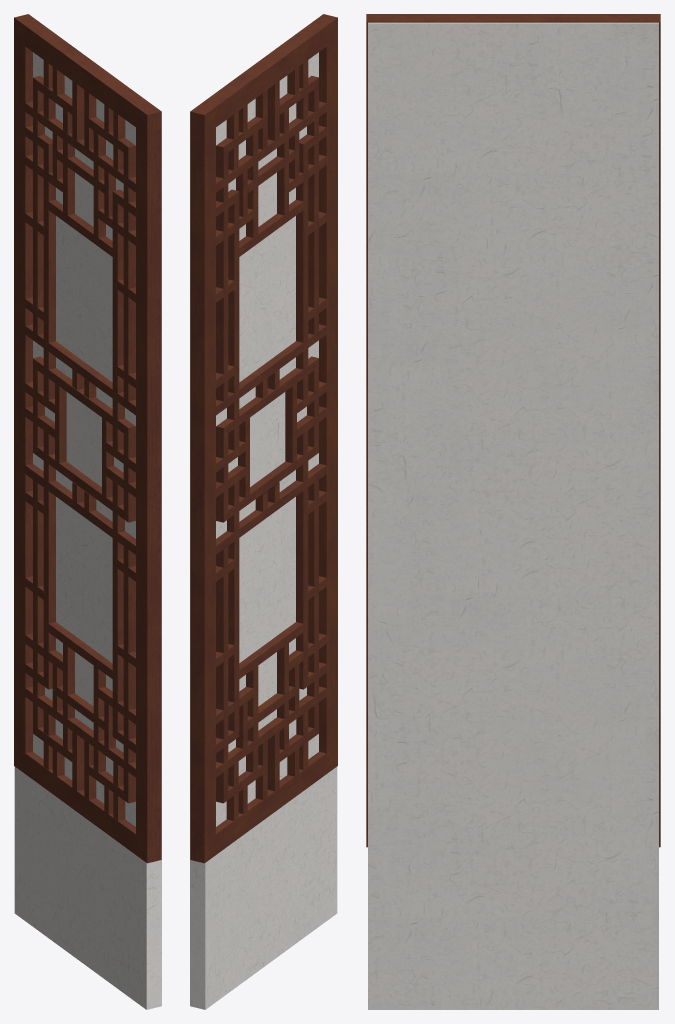
Rendered from SM_Door16H.fbx.
3 renders of one model, left to right at view 1: azimuth 30°, elevation 25°; view 2: azimuth 150°, elevation 25°; view 3: azimuth 270°, elevation 25°, orthographic. The views are drawn at different scales.
Visible parts, largest first — view 1: SM_Door16H; view 2: SM_Door16H; view 3: SM_Door16H.
Boxes of the visible parts, box(x1,y1,x2,y2) form: SM_Door16H: box(14, 14, 161, 1009); SM_Door16H: box(190, 14, 337, 1009); SM_Door16H: box(366, 14, 660, 1009).
Bounding box in the file's own units: 3.42 × 51.38 × 190.
